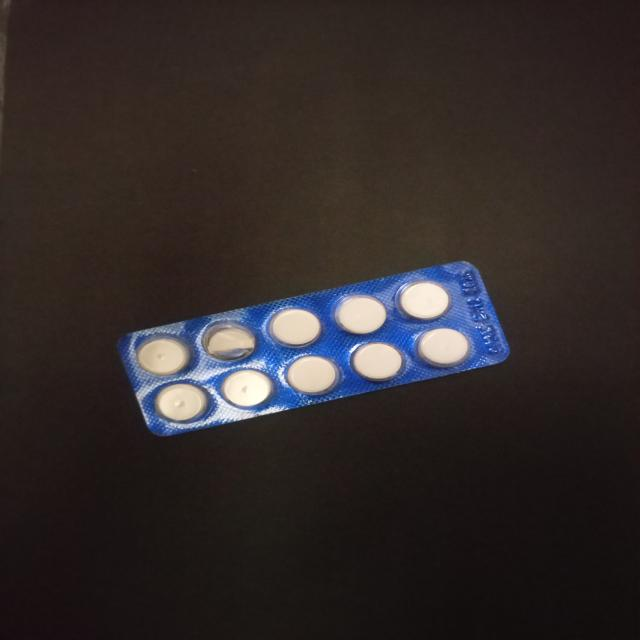defect: (200, 318, 261, 365)
